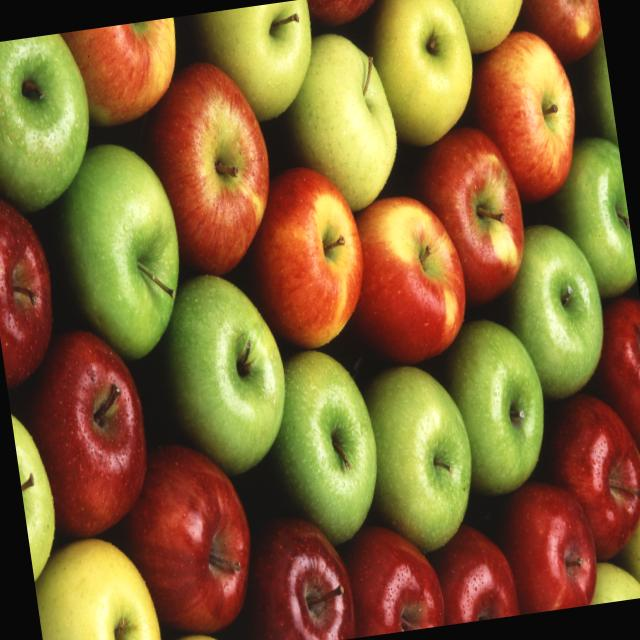alpple: (36, 137, 195, 369), (133, 56, 276, 285), (12, 324, 156, 536), (106, 433, 262, 628), (154, 266, 292, 470), (272, 25, 401, 222), (337, 186, 472, 370), (404, 122, 532, 315), (348, 188, 476, 380), (354, 360, 478, 554), (458, 25, 585, 210), (431, 316, 554, 499), (266, 346, 378, 546), (486, 217, 610, 393), (254, 162, 368, 351), (359, 0, 481, 153), (533, 387, 640, 555), (488, 476, 601, 614), (240, 512, 354, 640), (29, 533, 162, 640), (0, 181, 63, 392)
